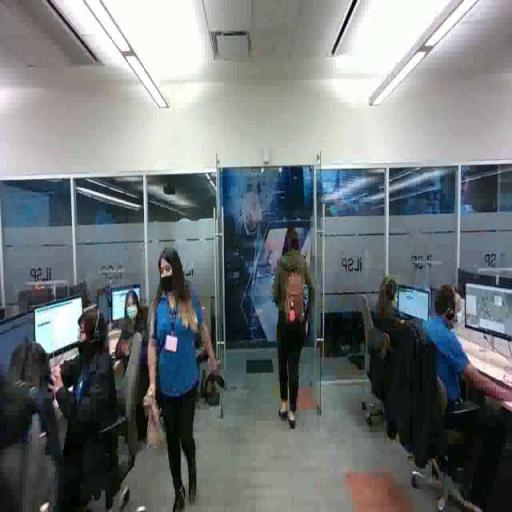person: (144, 245, 221, 512), (412, 283, 512, 487), (53, 304, 124, 512), (274, 225, 319, 432), (114, 284, 162, 419), (364, 274, 418, 393)
